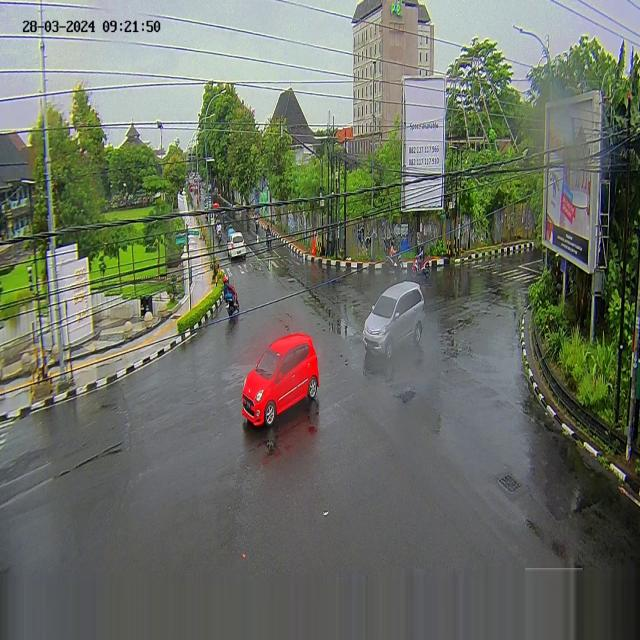car: (242, 332, 321, 430), (362, 280, 426, 360), (228, 232, 246, 257)
motorcycle: (222, 274, 238, 321), (412, 243, 431, 281), (386, 240, 404, 273), (215, 218, 222, 242), (253, 209, 260, 232), (266, 225, 272, 250)
